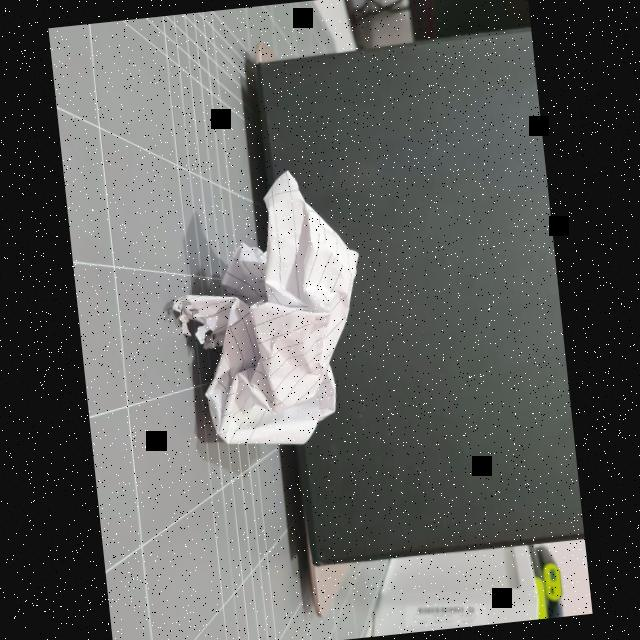scrap_paper: (165, 162, 372, 459)
